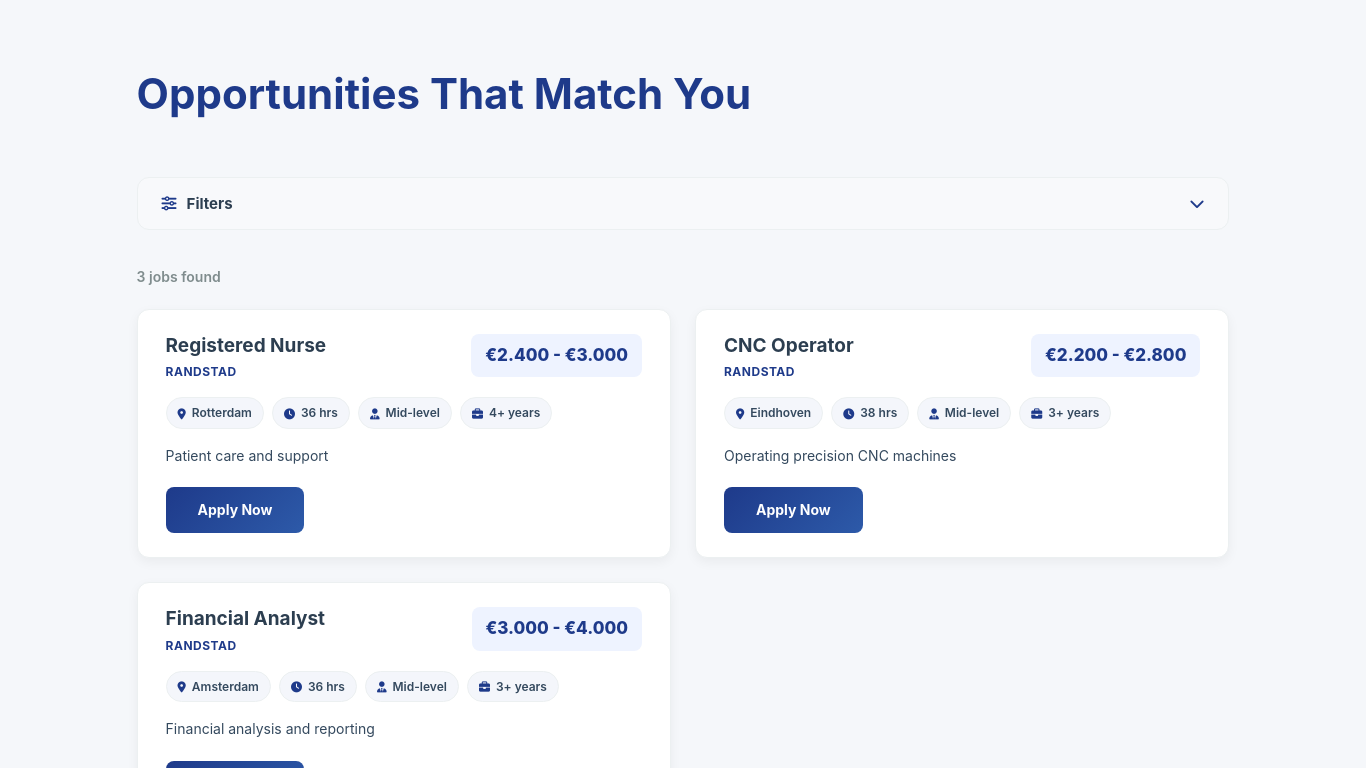
Test: Jobs page › filters by location
Expected: the heading "Registered Nurse" is shown, x1=166 y1=334 x2=326 y2=358
Step 1. Click the button "Filters" → [210, 204], box x1=137 y1=177 x2=1229 y2=230
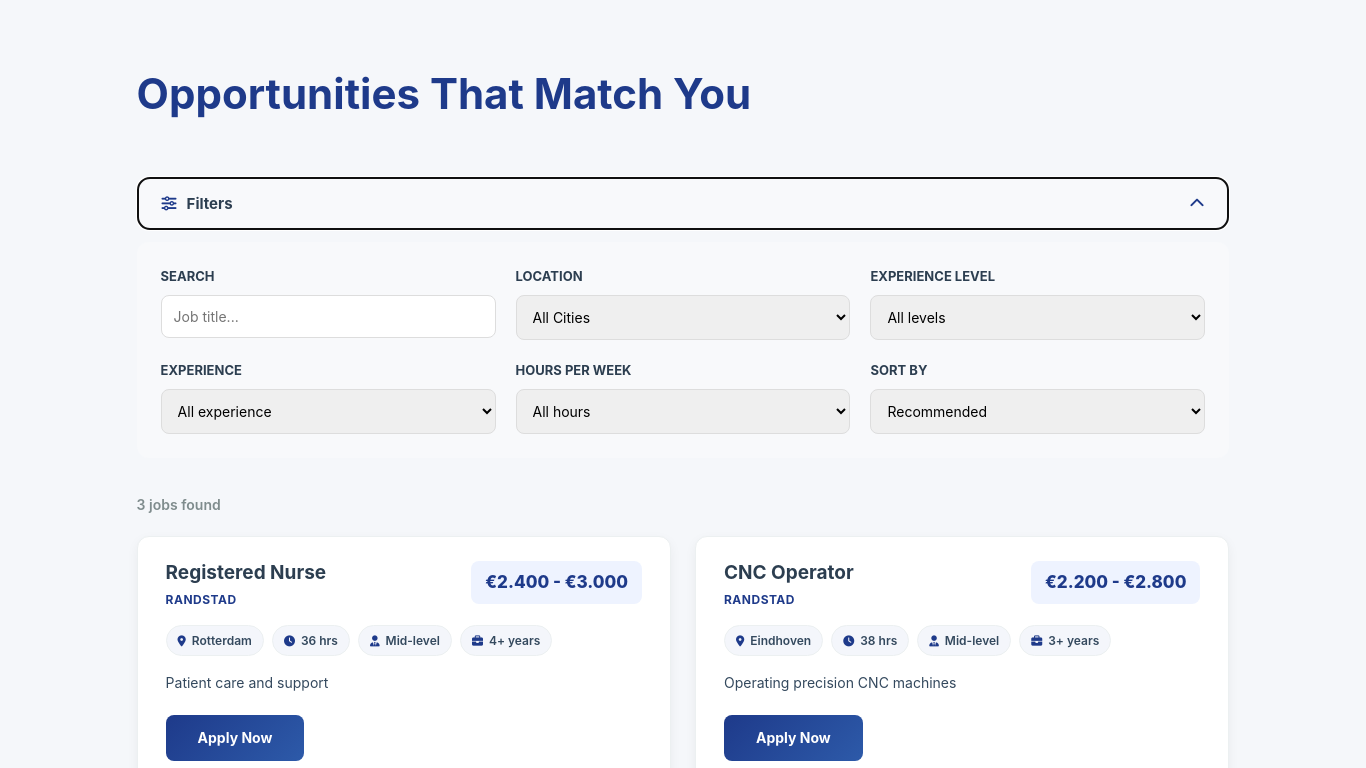
Step 2. Select "Eindhoven" in the dropdown labelled "Location" → [683, 318], box x1=516 y1=295 x2=850 y2=340
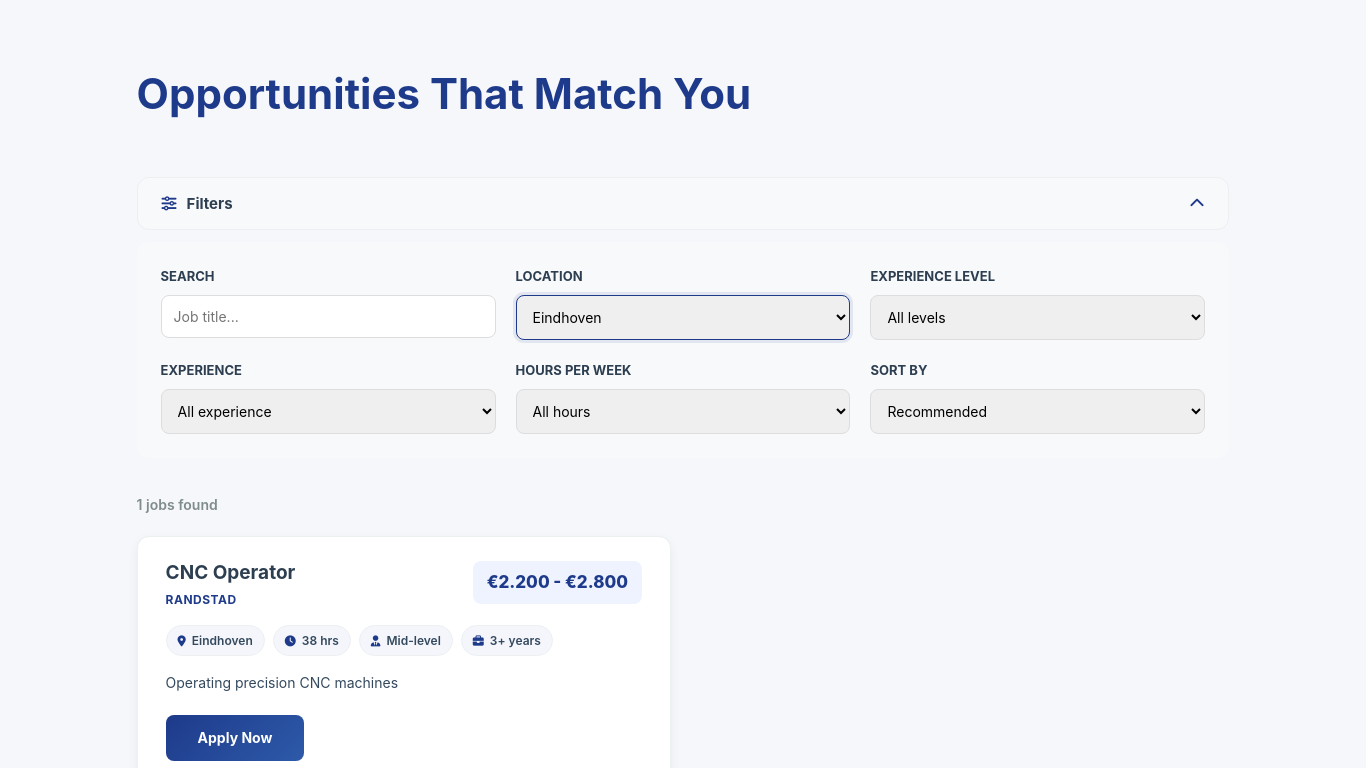
Expected: the heading "CNC Operator" is shown, x1=166 y1=561 x2=295 y2=586
Expected: the heading "Registered Nurse" is gone
